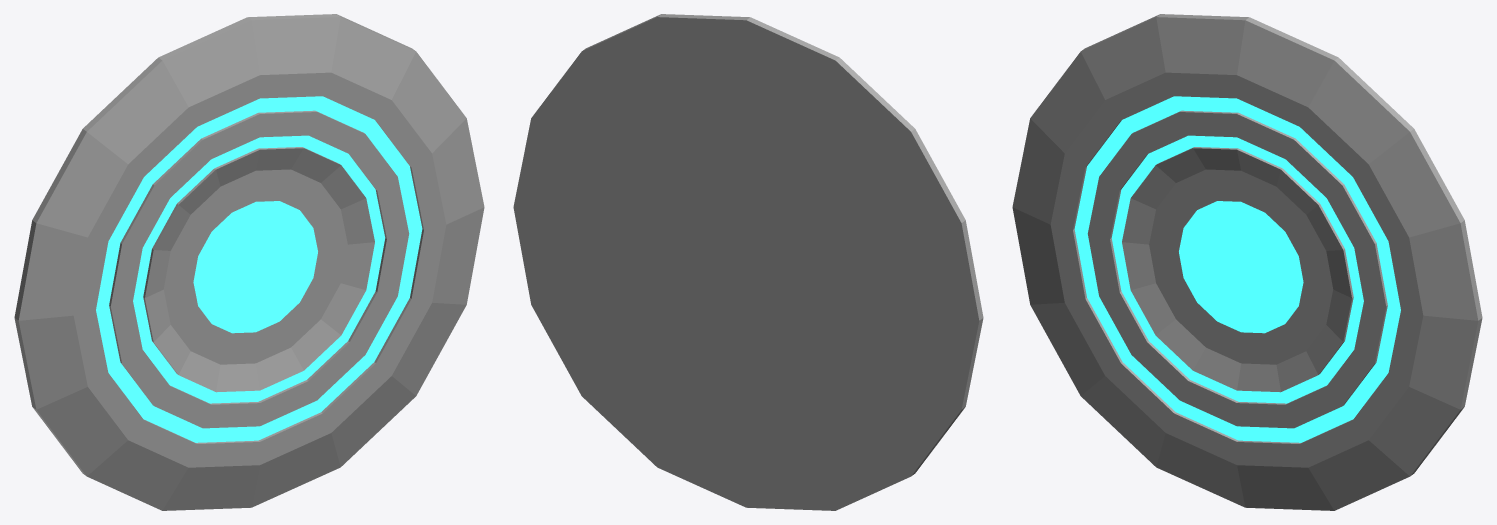
File: pickup_base.glb
3 renders of one model, left to right at view 1: azimuth 30°, elevation 25°; view 2: azimuth 150°, elevation 25°; view 3: azimuth 330°, elevation 25°, orthographic.
Visible parts, largest first — view 1: pickup_base; view 2: pickup_base; view 3: pickup_base.
Part boxes in pixels (box(x1,y1,x2,y2)): pickup_base: box(14, 14, 484, 510); pickup_base: box(513, 14, 983, 510); pickup_base: box(1012, 14, 1482, 510).
Bounding box in the file's own units: 3.2 × 3.2 × 0.15.
